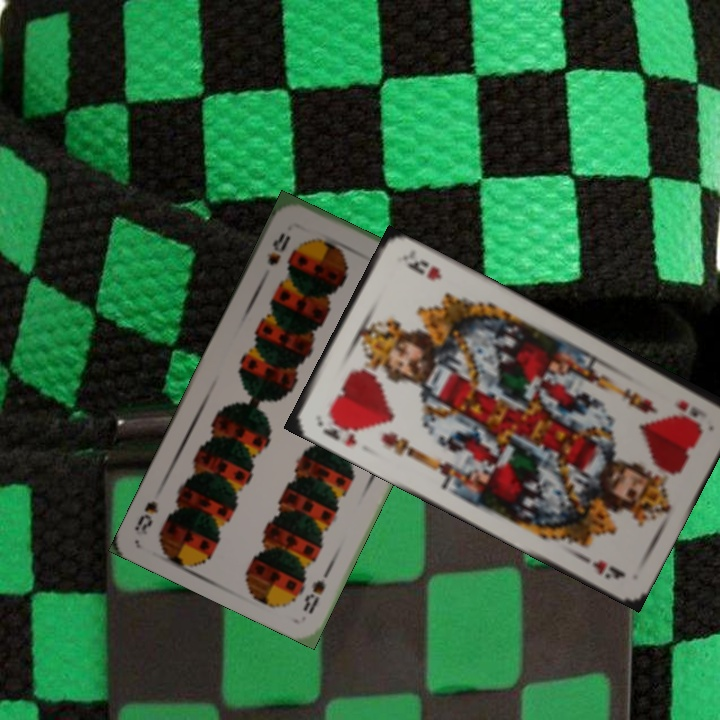HK: (313, 411, 360, 449), (671, 396, 710, 420)
S8: (299, 562, 335, 617), (263, 228, 293, 268)
